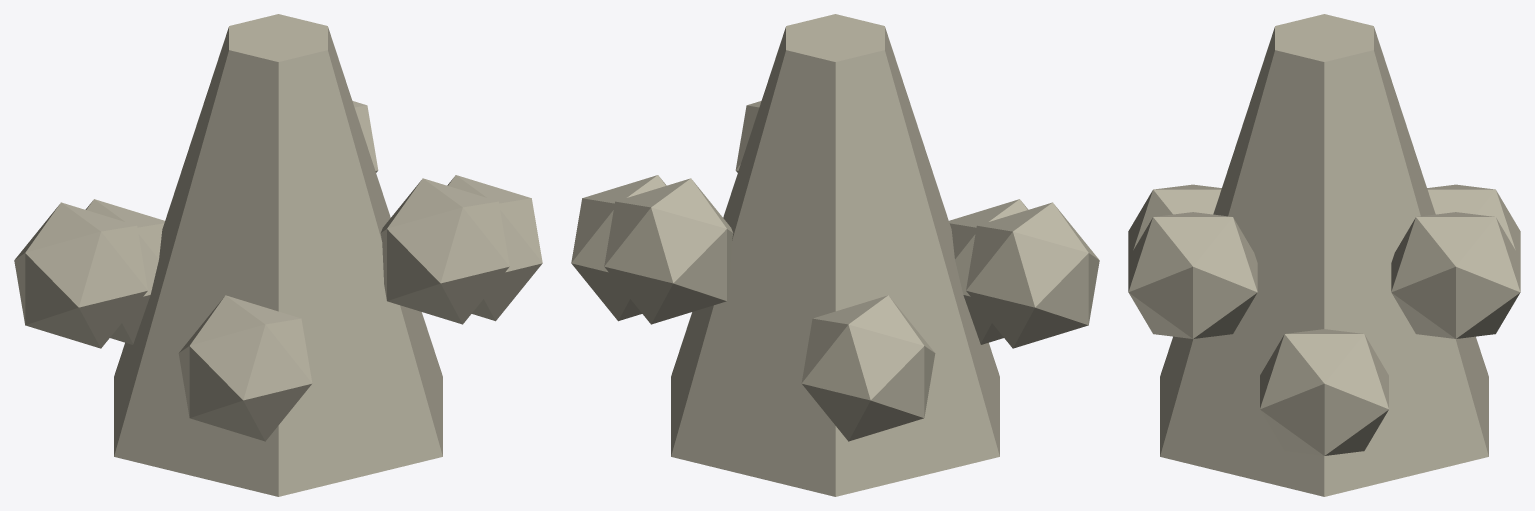
File: splash.glb
3 renders of one model, left to right at view 1: azimuth 30°, elevation 25°; view 2: azimuth 150°, elevation 25°; view 3: azimuth 270°, elevation 25°, orthographic.
Parts seen in each view (by area): view 1: Column, Drop3, Drop4, Drop5, Drop0, Drop2, Drop1; view 2: Column, Drop2, Drop3, Drop1, Drop0, Drop4, Drop5; view 3: Column, Drop1, Drop5, Drop0, Drop2, Drop4.
Part boxes in pixels (left/top/right/bottom): Column: left=114, top=14, right=442, bottom=496; Drop3: left=14, top=202, right=147, bottom=348; Drop4: left=178, top=295, right=312, bottom=441; Drop5: left=380, top=178, right=509, bottom=324; Drop0: left=447, top=175, right=542, bottom=321; Drop2: left=85, top=199, right=164, bottom=344; Drop1: left=352, top=101, right=378, bottom=172; Column: left=671, top=14, right=999, bottom=496; Drop2: left=801, top=295, right=935, bottom=441; Drop3: left=966, top=202, right=1099, bottom=348; Drop1: left=604, top=178, right=733, bottom=324; Drop0: left=571, top=175, right=666, bottom=321; Drop4: left=949, top=199, right=1028, bottom=344; Drop5: left=735, top=101, right=761, bottom=172; Column: left=1160, top=14, right=1488, bottom=496; Drop1: left=1391, top=212, right=1520, bottom=338; Drop5: left=1128, top=212, right=1257, bottom=338; Drop0: left=1260, top=329, right=1388, bottom=455; Drop2: left=1427, top=184, right=1520, bottom=258; Drop4: left=1128, top=184, right=1221, bottom=258.
Bounding box in the file's own units: 1.54 × 1.1 × 1.03.
